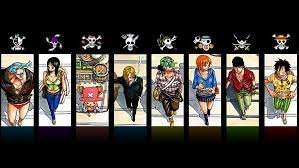chopper: (78, 85, 106, 108)
luffy: (271, 58, 292, 81)
